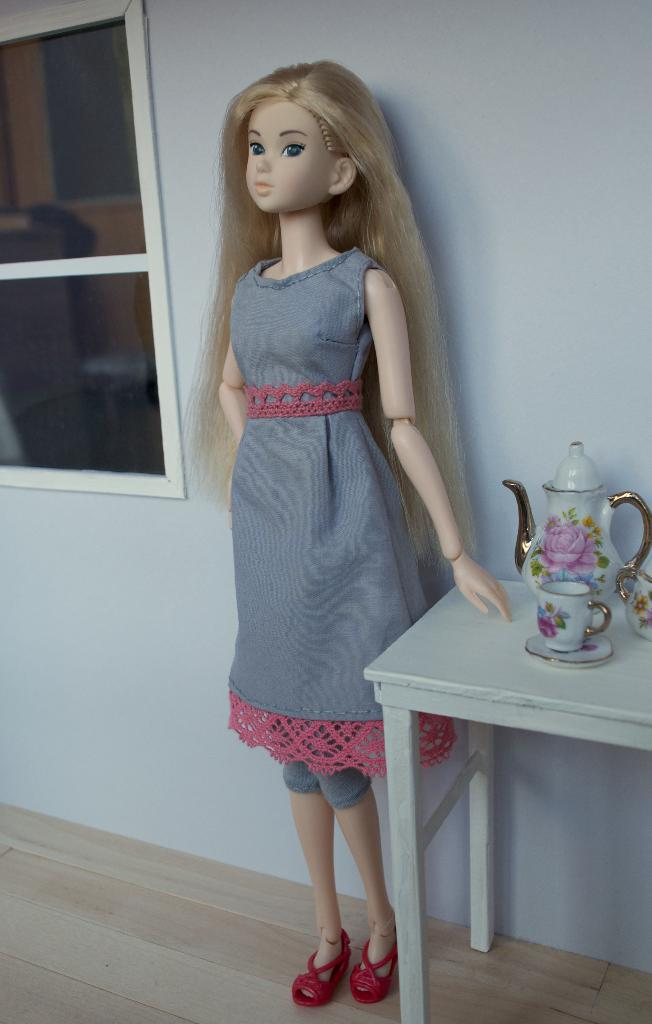Footwear: (347, 927, 406, 1010)
